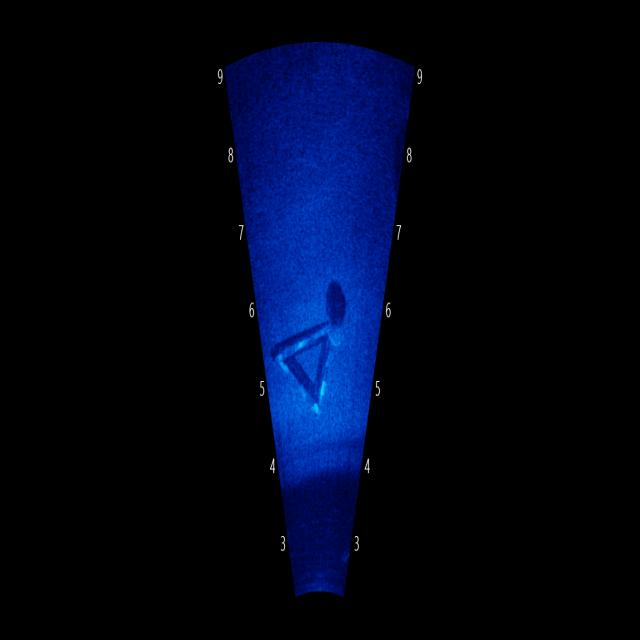triangle: (270, 280, 358, 430)
